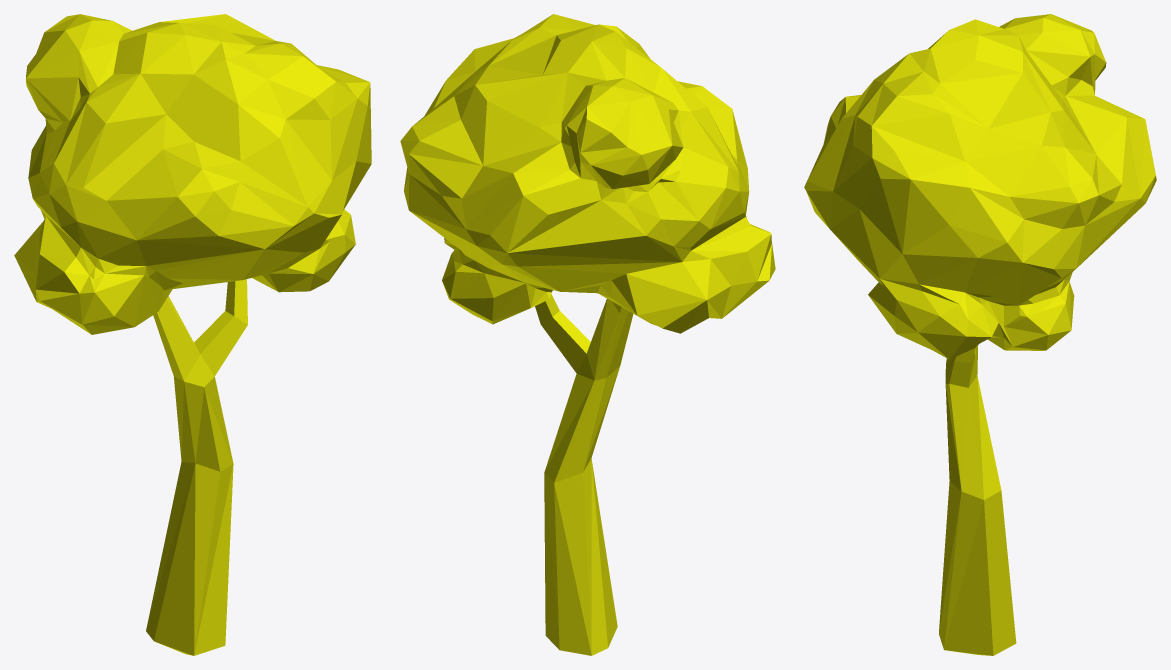
The model's file is SM_Generic_Tree_01.glb.
3 views of the same model, side by side, from view 1: azimuth 30°, elevation 25°; view 2: azimuth 150°, elevation 25°; view 3: azimuth 270°, elevation 25° (orthographic). The views are drawn at different scales.
Visible parts, largest first — view 1: SM_Generic_Tree_01; view 2: SM_Generic_Tree_01; view 3: SM_Generic_Tree_01.
Part boxes in pixels (x1,y1,x2,y2): SM_Generic_Tree_01: (14, 14, 371, 655); SM_Generic_Tree_01: (400, 14, 775, 655); SM_Generic_Tree_01: (804, 14, 1156, 655).
Size of the model in its own units: 1.81 by 3.3 by 1.7.
Materials: 1 (1 with a texture image).
